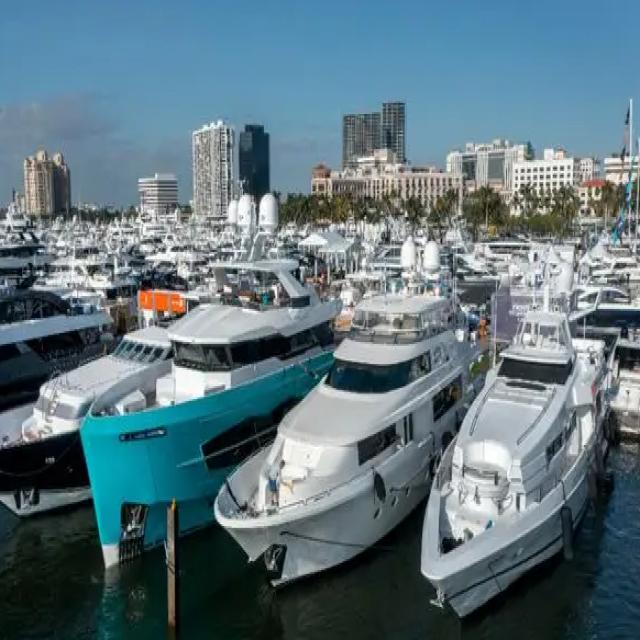houseboat: (74, 240, 343, 594), (219, 272, 478, 604), (420, 302, 614, 624), (0, 283, 205, 532)
